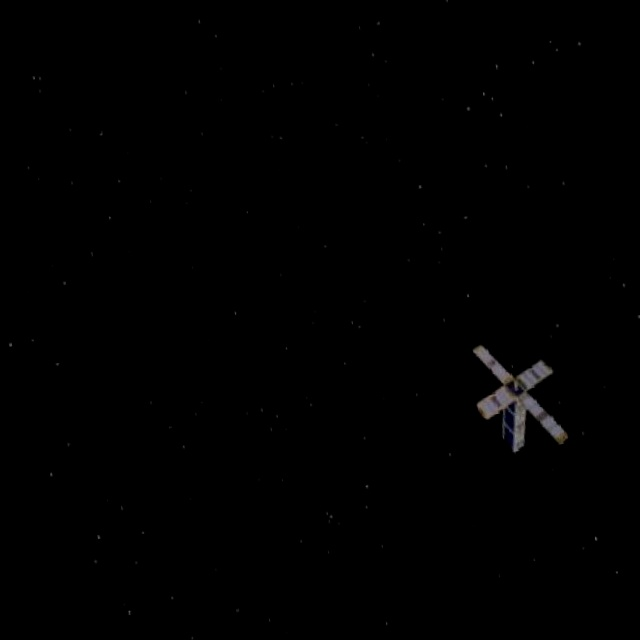medium_debris: (451, 326, 577, 472)
